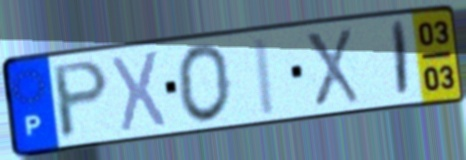I: (250, 34, 279, 119), (391, 18, 411, 101)
O: (174, 41, 234, 125)
P: (51, 57, 112, 143)
X: (108, 47, 169, 135), (302, 26, 364, 110)
